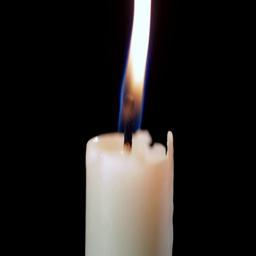fire: (120, 0, 151, 133)
